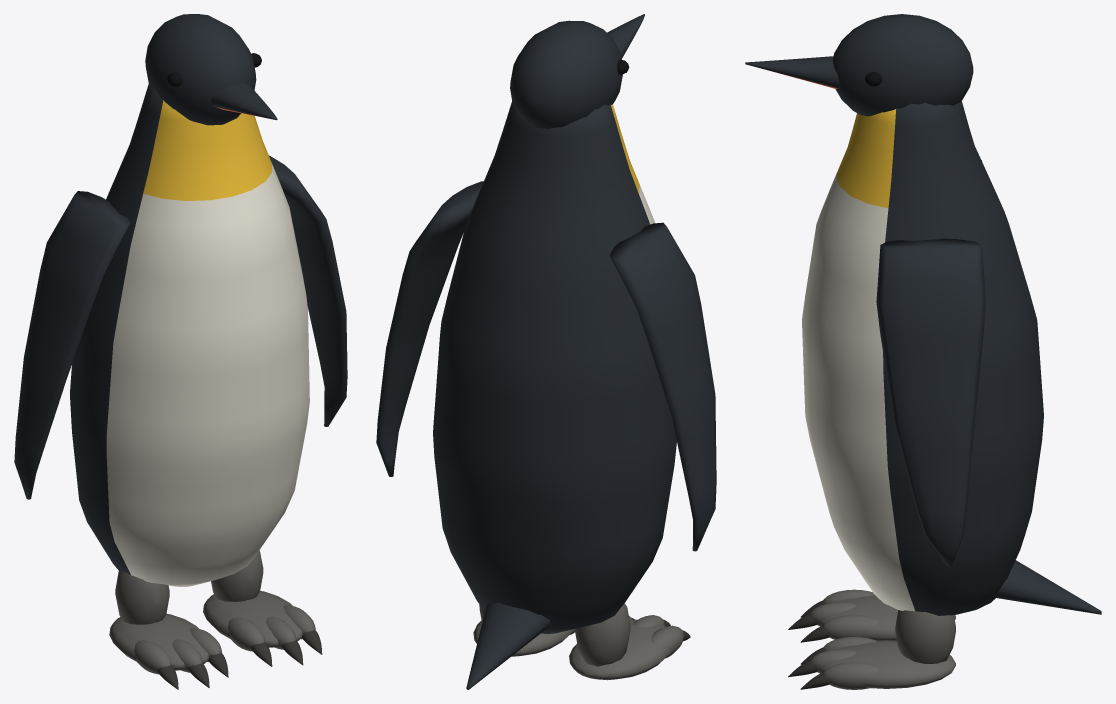
3 renders of one model, left to right at view 1: azimuth 30°, elevation 25°; view 2: azimuth 150°, elevation 25°; view 3: azimuth 270°, elevation 25°, orthographic. The views are drawn at different scales.
Parts seen in each view (by area): view 1: Body_closed_belly_back_neck, Left_closed_paddle_flipper, Head_closed_crown, Right_closed_paddle_flipper, Left_closed_webbed_foot, Right_closed_webbed_foot, Left_short_ankle, Right_short_ankle, Beak_closed_tapered_bill, Right_toe_-1, Left_toe_-1, Left_toe_0 (+1 smaller); view 2: Body_closed_belly_back_neck, Left_closed_paddle_flipper, Right_closed_paddle_flipper, Head_closed_crown, Tail_closed_short_wedge, Left_closed_webbed_foot, Left_short_ankle, Right_closed_webbed_foot, Beak_closed_tapered_bill, Left_toe_-1; view 3: Body_closed_belly_back_neck, Right_closed_paddle_flipper, Head_closed_crown, Right_closed_webbed_foot, Right_short_ankle, Tail_closed_short_wedge, Beak_closed_tapered_bill, Left_closed_webbed_foot, Right_toe_1, Left_toe_1.
Boxes of the visible parts, x1,y1,x2,y2 form: Body_closed_belly_back_neck: [70, 84, 309, 586]; Left_closed_paddle_flipper: [14, 191, 130, 499]; Head_closed_crown: [145, 14, 256, 125]; Right_closed_paddle_flipper: [269, 155, 347, 426]; Left_closed_webbed_foot: [109, 614, 208, 670]; Right_closed_webbed_foot: [203, 591, 302, 647]; Left_short_ankle: [115, 571, 169, 624]; Right_short_ankle: [211, 550, 263, 601]; Beak_closed_tapered_bill: [211, 83, 277, 120]; Right_toe_-1: [228, 617, 265, 651]; Left_toe_-1: [134, 640, 171, 674]; Left_toe_0: [172, 639, 202, 672]; Body_closed_belly_back_neck: [433, 101, 676, 633]; Left_closed_paddle_flipper: [609, 222, 716, 551]; Right_closed_paddle_flipper: [376, 181, 483, 476]; Head_closed_crown: [510, 20, 622, 128]; Tail_closed_short_wedge: [466, 602, 550, 689]; Left_closed_webbed_foot: [569, 619, 672, 680]; Left_short_ankle: [575, 603, 630, 666]; Right_closed_webbed_foot: [473, 620, 574, 656]; Beak_closed_tapered_bill: [607, 14, 644, 58]; Left_toe_-1: [651, 625, 683, 658]; Body_closed_belly_back_neck: [802, 101, 1043, 615]; Right_closed_paddle_flipper: [876, 238, 985, 567]; Head_closed_crown: [833, 14, 973, 116]; Right_closed_webbed_foot: [820, 640, 955, 688]; Right_short_ankle: [895, 610, 955, 663]; Tail_closed_short_wedge: [996, 560, 1101, 614]; Beak_closed_tapered_bill: [745, 56, 839, 88]; Left_closed_webbed_foot: [820, 595, 955, 640]; Right_toe_1: [823, 662, 878, 689]; Left_toe_1: [823, 615, 878, 639].
Size of the model in its own units: 0.617 by 1.13 by 0.575.
